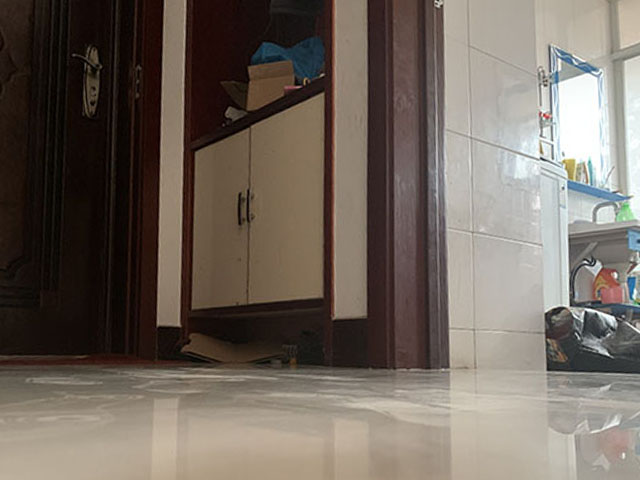cabinet: (177, 72, 340, 364)
carpet: (1, 354, 189, 367)
